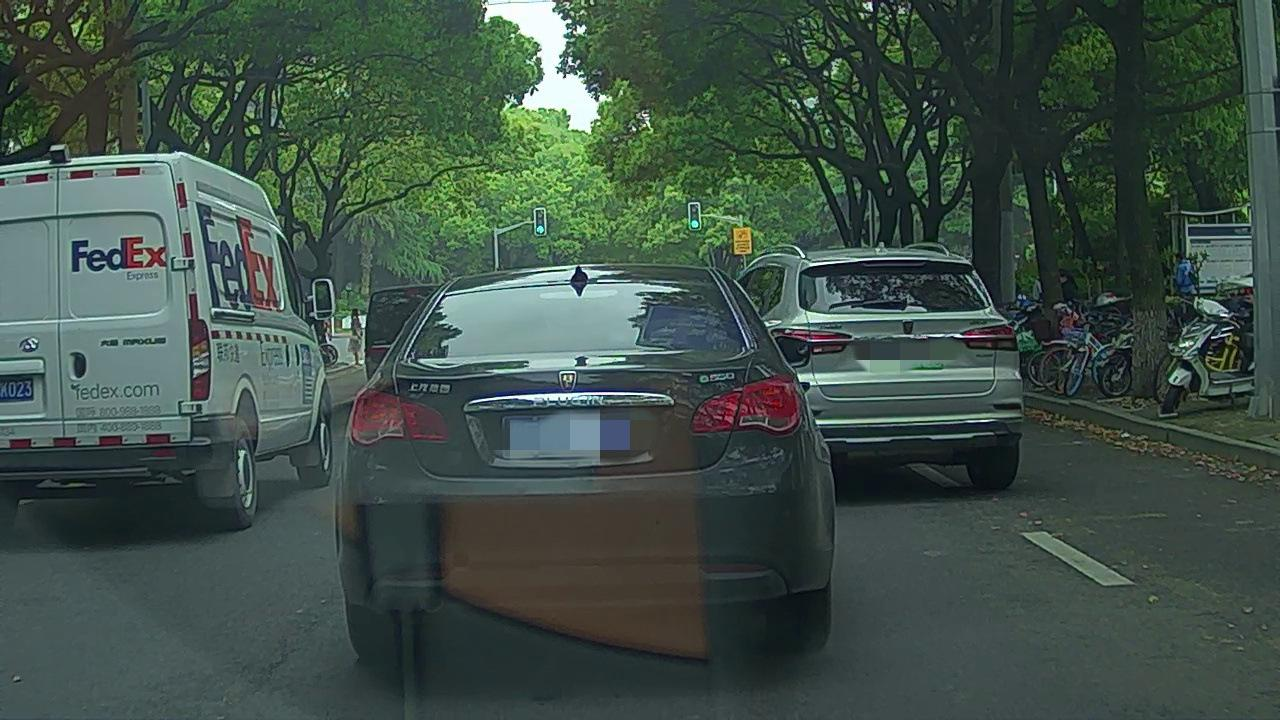traffic_light: (688, 205, 700, 230), (534, 208, 545, 235)
